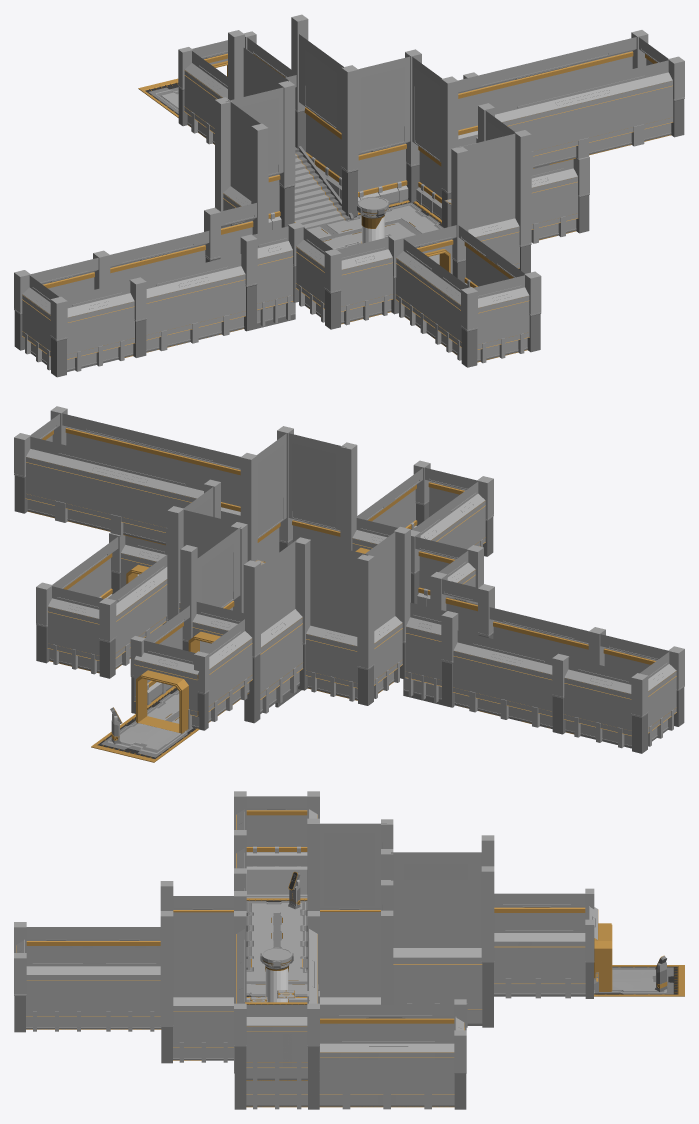
Rendered from Spaceship.gltf.
3 views of the same model, one above another, from view 1: azimuth 30°, elevation 25°; view 2: azimuth 150°, elevation 25°; view 3: azimuth 270°, elevation 25° (orthographic).
Parts seen in each view (by area): view 1: global_walls, transparent-left-corridor, transparent-middle_room, transparent-right-corridor, Floor_Global, transparent-start, transparent-pod, transparent_dd_spaceship; view 2: global_walls, transparent-middle_room, transparent-left-corridor, transparent-right-corridor, transparent_dd_spaceship, Floor_Global, transparent-dd-middle, transparent-dd-right, transparent-start; view 3: global_walls, transparent-middle_room, Floor_Global, transparent-right-corridor, transparent_dd_spaceship, transparent-pod, transparent-left-corridor.
Boxes of the visible parts, <box> form: global_walls: <box>14,14,668,370</box>; transparent-left-corridor: <box>50,226,295,377</box>; transparent-middle_room: <box>288,103,531,329</box>; transparent-right-corridor: <box>490,56,684,243</box>; Floor_Global: <box>124,78,575,362</box>; transparent-start: <box>473,275,529,363</box>; transparent-pod: <box>357,196,389,243</box>; transparent_dd_spaceship: <box>192,40,227,76</box>; global_walls: <box>14,414,676,753</box>; transparent-middle_room: <box>240,426,483,610</box>; transparent-left-corridor: <box>442,579,684,726</box>; transparent-right-corridor: <box>50,406,240,522</box>; transparent_dd_spaceship: <box>134,640,199,733</box>; Floor_Global: <box>49,559,574,762</box>; transparent-dd-middle: <box>188,602,243,652</box>; transparent-dd-right: <box>120,535,167,588</box>; transparent-start: <box>425,467,476,516</box>; global_walls: <box>14,791,594,1109</box>; transparent-middle_room: <box>160,891,246,1063</box>; Floor_Global: <box>26,866,684,1107</box>; transparent-right-corridor: <box>234,929,246,1109</box>; transparent_dd_spaceship: <box>589,906,612,994</box>; transparent-pod: <box>260,947,293,1002</box>; transparent-left-corridor: <box>234,791,246,890</box>.
Bounding box in the file's own units: 39.68 × 10.92 × 36.58.
